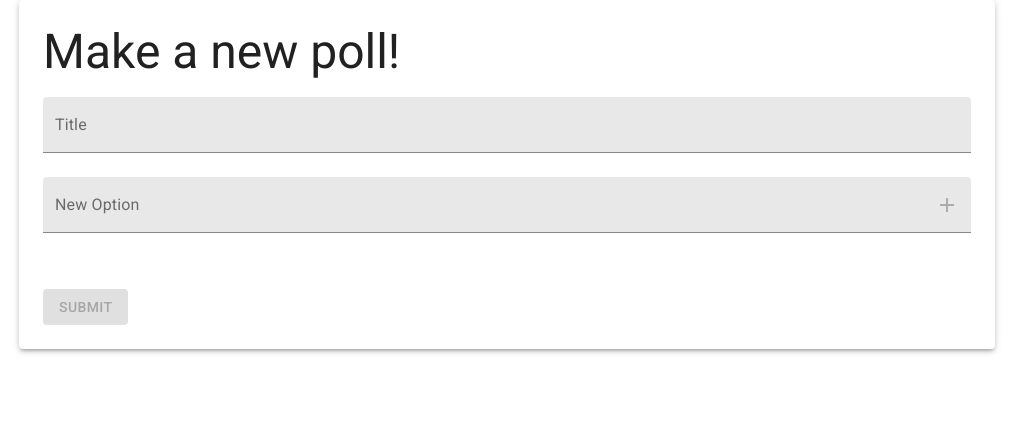
Scenario: NewPoll tests › If option is present › Succesfully submitting a poll opens a link to visit it
The width and height of the screenshot is (1015, 435).
Step 1. Type "test" into the field labelled "Title" → (507, 125), box [43, 97, 971, 153]
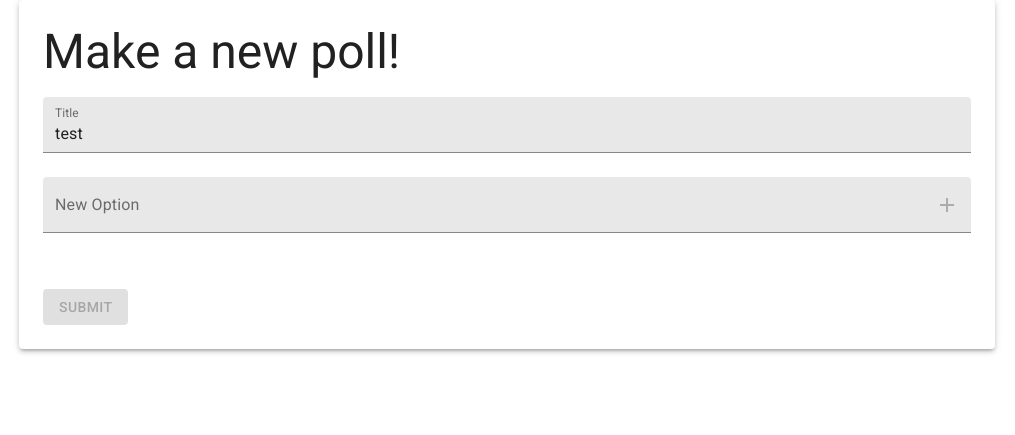
Step 2. Type "test" into the field labelled "New Option" → (479, 205), box [43, 177, 915, 233]
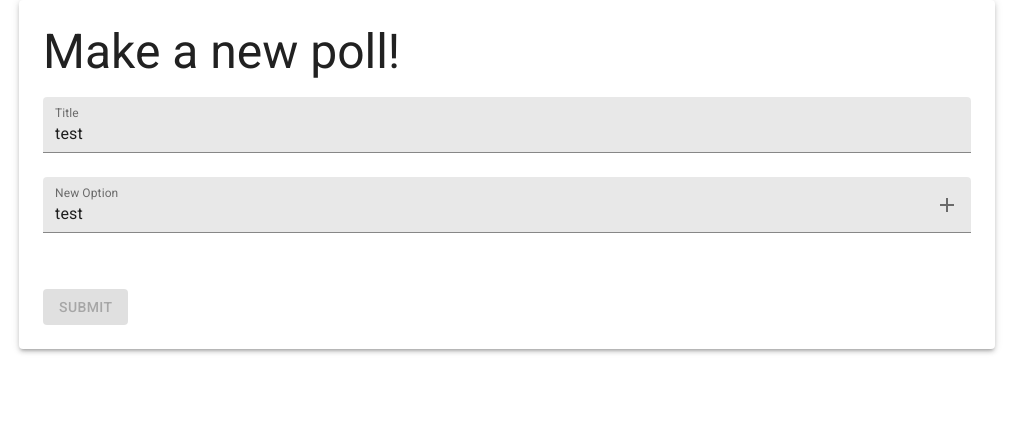
Step 3. Click the button with test id "add-option-button" → (947, 205), box [923, 181, 971, 229]
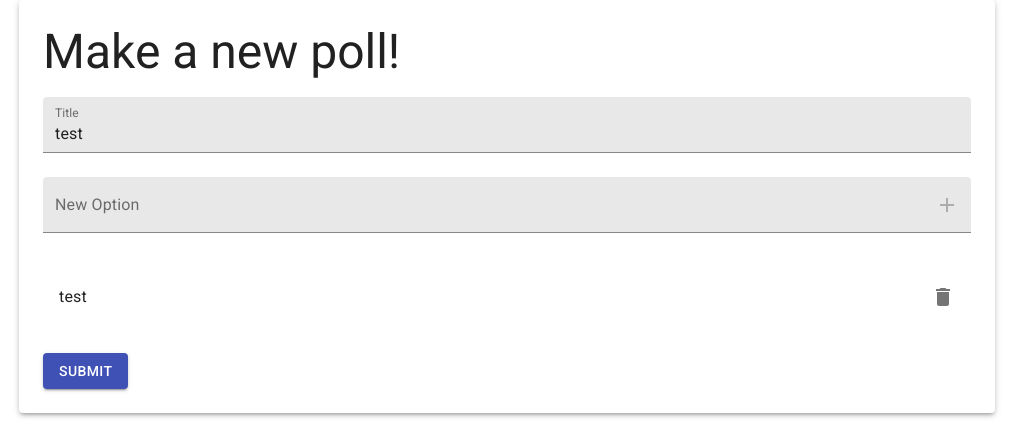
Step 4. Click the button with test id "submit-button" → (86, 371), box [43, 353, 128, 389]
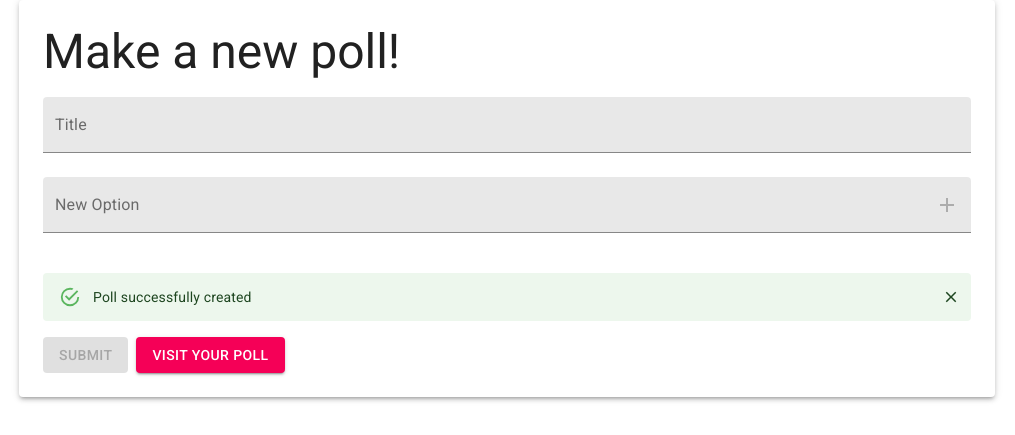
expect the text "Visit your poll" is shown: met, box [152, 343, 268, 367]
